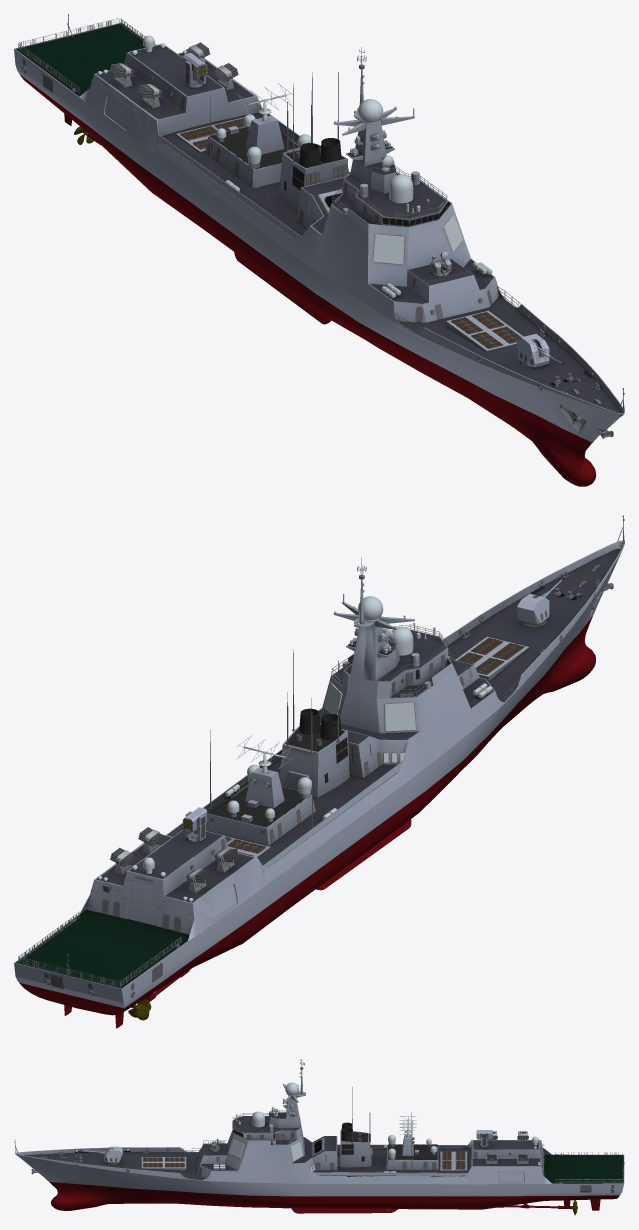
File: destroyer.glb
The picture shows the model from 3 angles, top to bottom: view 1: azimuth 30°, elevation 25°; view 2: azimuth 150°, elevation 25°; view 3: azimuth 270°, elevation 25°; orthographic projection. The views are drawn at different scales.
Parts seen in each view (by area): view 1: Object_2, Object_4, Object_9, Object_12, Object_13, Object_7; view 2: Object_2, Object_4, Object_9, Object_12, Object_13; view 3: Object_2, Object_4, Object_9, Object_12, Object_13.
Part boxes in pixels (left/top/right/bottom): Object_2: left=14, top=22, right=624, bottom=486; Object_4: left=22, top=14, right=624, bottom=438; Object_9: left=18, top=18, right=546, bottom=365; Object_12: left=110, top=42, right=238, bottom=108; Object_13: left=516, top=333, right=564, bottom=367; Object_7: left=182, top=53, right=207, bottom=87; Object_2: left=14, top=540, right=624, bottom=1015; Object_4: left=44, top=515, right=624, bottom=1028; Object_9: left=18, top=594, right=549, bottom=1020; Object_12: left=110, top=827, right=238, bottom=893; Object_13: left=517, top=577, right=564, bottom=627; Object_2: left=15, top=1069, right=624, bottom=1210; Object_4: left=14, top=1059, right=624, bottom=1213; Object_9: left=104, top=1106, right=622, bottom=1215; Object_12: left=486, top=1131, right=528, bottom=1164; Object_13: left=80, top=1146, right=122, bottom=1164.
Bounding box in the file's own units: 19.28 × 45.74 × 166.
7 materials, 7 textured.
